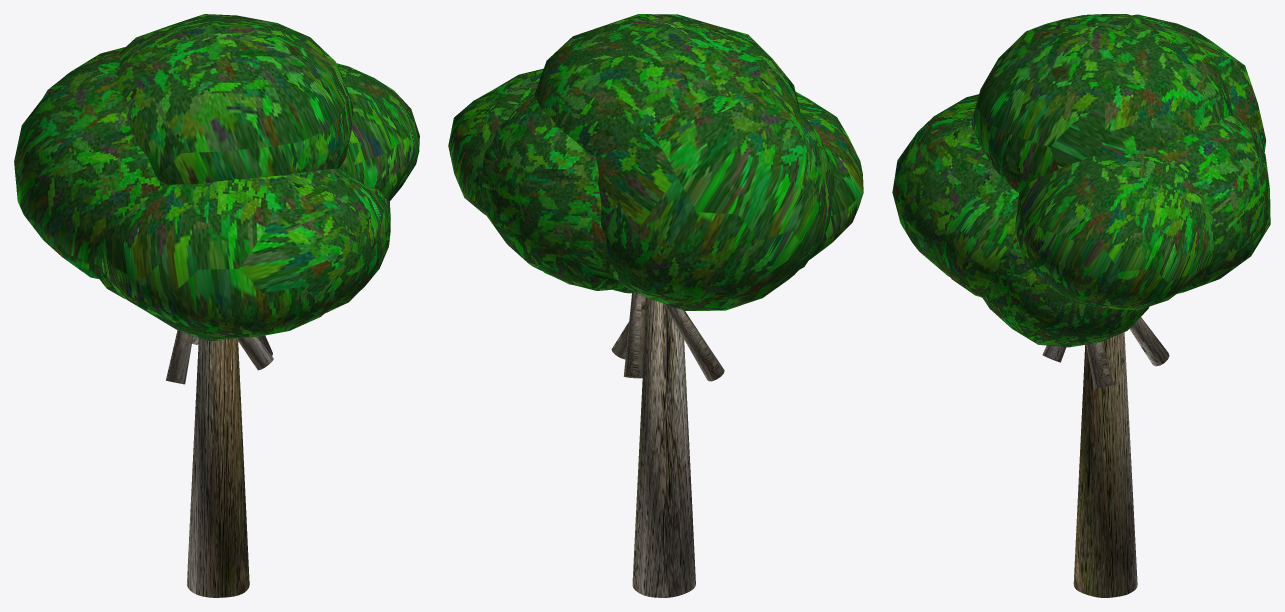
The model's file is tree_default.glb.
3 renders of one model, left to right at view 1: azimuth 30°, elevation 25°; view 2: azimuth 150°, elevation 25°; view 3: azimuth 270°, elevation 25°, orthographic.
Parts seen in each view (by area): view 1: Canopy_7, Canopy_top, Canopy_4, Trunk, Canopy_0, Canopy_8, Trunk_fork_1, Trunk_fork_2, Canopy_9; view 2: Canopy_4, Canopy_top, Canopy_1, Trunk, Canopy_0, Canopy_7, Canopy_2, Trunk_fork_0, Trunk_fork_1; view 3: Canopy_top, Canopy_0, Trunk, Canopy_7, Canopy_1, Canopy_9, Canopy_8, Canopy_4, Trunk_fork_0, Trunk_fork_3.
Boxes of the visible parts, <box> form: Canopy_7: <box>101,168,376,341</box>; Canopy_top: <box>116,14,352,186</box>; Canopy_4: <box>14,47,165,278</box>; Trunk: <box>187,338,249,597</box>; Canopy_0: <box>336,63,419,201</box>; Canopy_8: <box>339,170,388,301</box>; Trunk_fork_1: <box>166,330,192,384</box>; Trunk_fork_2: <box>236,337,273,370</box>; Canopy_9: <box>326,188,390,312</box>; Canopy_4: <box>596,90,834,310</box>; Canopy_top: <box>534,14,800,156</box>; Canopy_1: <box>478,93,618,284</box>; Trunk: <box>632,298,695,597</box>; Canopy_0: <box>448,68,543,215</box>; Canopy_7: <box>795,91,863,259</box>; Canopy_2: <box>539,244,625,290</box>; Trunk_fork_0: <box>623,292,645,378</box>; Trunk_fork_1: <box>664,304,724,381</box>; Canopy_top: <box>971,14,1232,192</box>; Canopy_0: <box>1015,153,1216,310</box>; Trunk: <box>1073,332,1137,597</box>; Canopy_7: <box>892,94,1018,277</box>; Canopy_1: <box>1150,114,1270,293</box>; Canopy_9: <box>982,234,1148,347</box>; Canopy_8: <box>938,190,1018,297</box>; Canopy_4: <box>1132,14,1266,152</box>; Trunk_fork_0: <box>1129,317,1169,366</box>; Trunk_fork_3: <box>1086,341,1113,388</box>.
Bounding box in the file's own units: 4.28 × 6.17 × 3.79.
2 materials, 2 textured.
